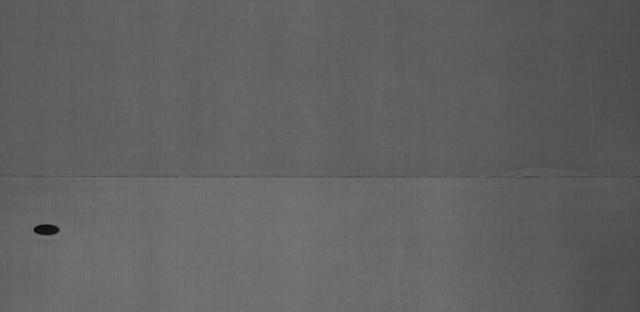punching_hole: (29, 219, 75, 240)
welding_line: (5, 164, 640, 189)
